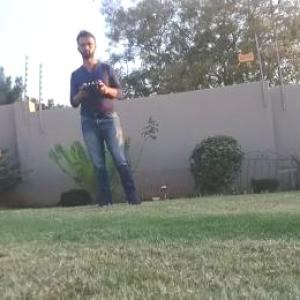follow: (66, 23, 149, 210)
